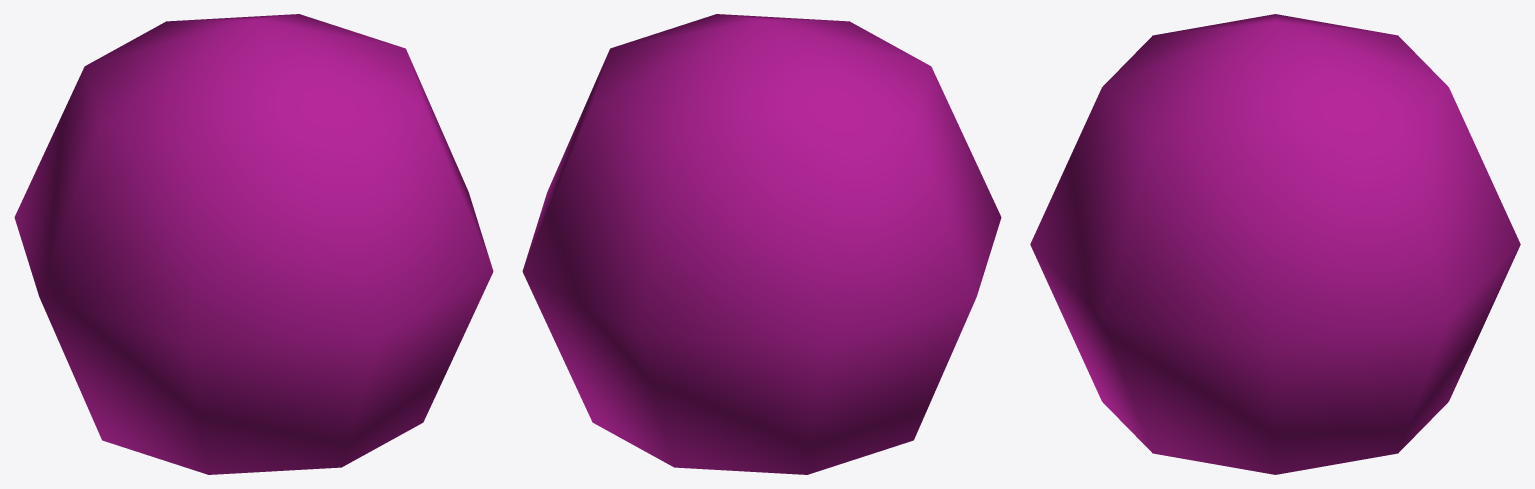
Rendered from shield.obj.
3 views of the same model, side by side, from view 1: azimuth 30°, elevation 25°; view 2: azimuth 150°, elevation 25°; view 3: azimuth 270°, elevation 25° (orthographic).
Parts seen in each view (by area): view 1: Sphere001; view 2: Sphere001; view 3: Sphere001.
Part boxes in pixels (box(x1,y1,x2,y2)): Sphere001: box(14, 14, 493, 474); Sphere001: box(522, 14, 1001, 474); Sphere001: box(1030, 14, 1520, 474).
Size of the model in its own units: 1.9 by 1.9 by 1.9.
